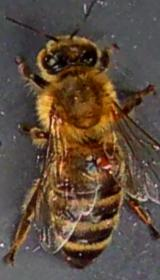varroa_mite: (89, 153, 114, 172)
